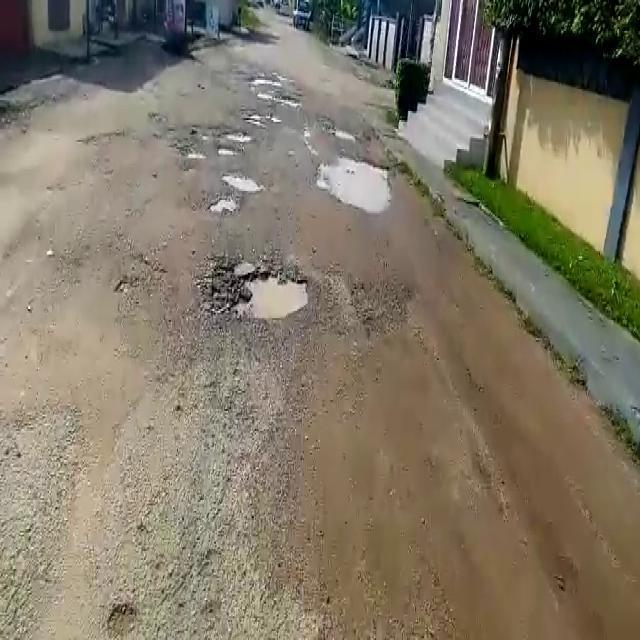pothole: (201, 257, 312, 325), (313, 159, 392, 209), (199, 193, 241, 218), (222, 172, 269, 194), (241, 109, 279, 125), (334, 131, 355, 141)
